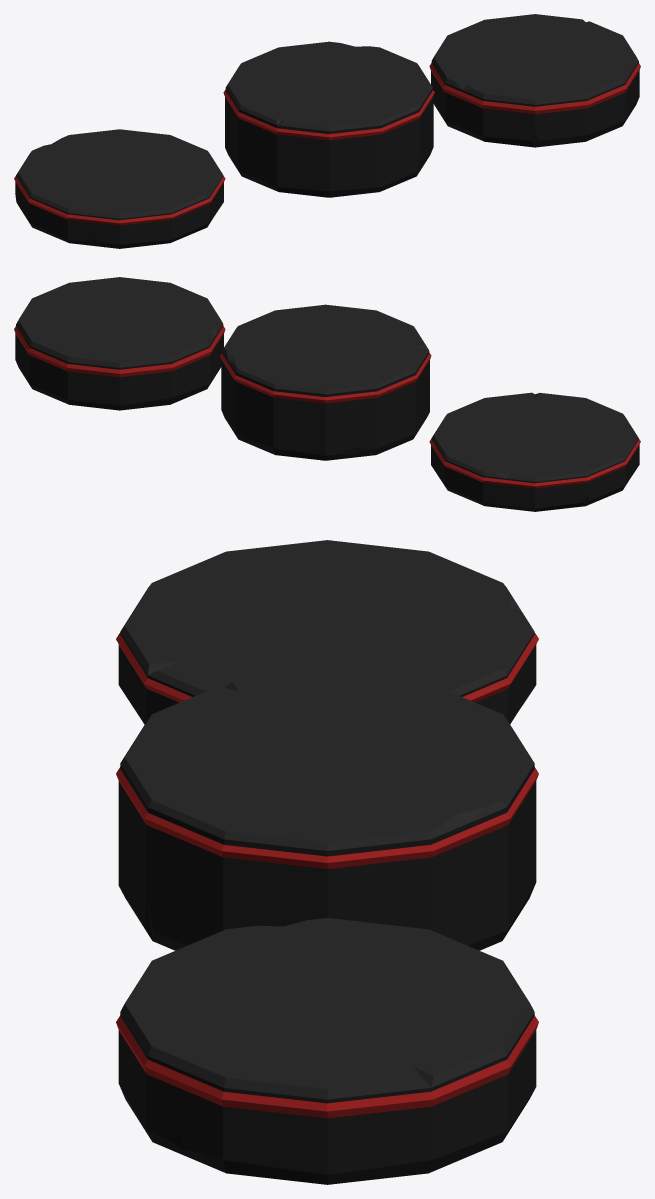
File: podium.glb
3 views of the same model, one above another, from view 1: azimuth 30°, elevation 25°; view 2: azimuth 150°, elevation 25°; view 3: azimuth 270°, elevation 25° (orthographic). The views are drawn at different scales.
Visible parts, largest first — view 1: SM_Prop_Podium_01; view 2: SM_Prop_Podium_01; view 3: SM_Prop_Podium_01.
Boxes of the visible parts, <box> form: SM_Prop_Podium_01: <box>14,14,640,248</box>; SM_Prop_Podium_01: <box>14,277,640,511</box>; SM_Prop_Podium_01: <box>116,540,538,1184</box>.
Size of the model in its own units: 5.34 by 0.6019 by 1.63.
Materials: 1 (1 with a texture image).
